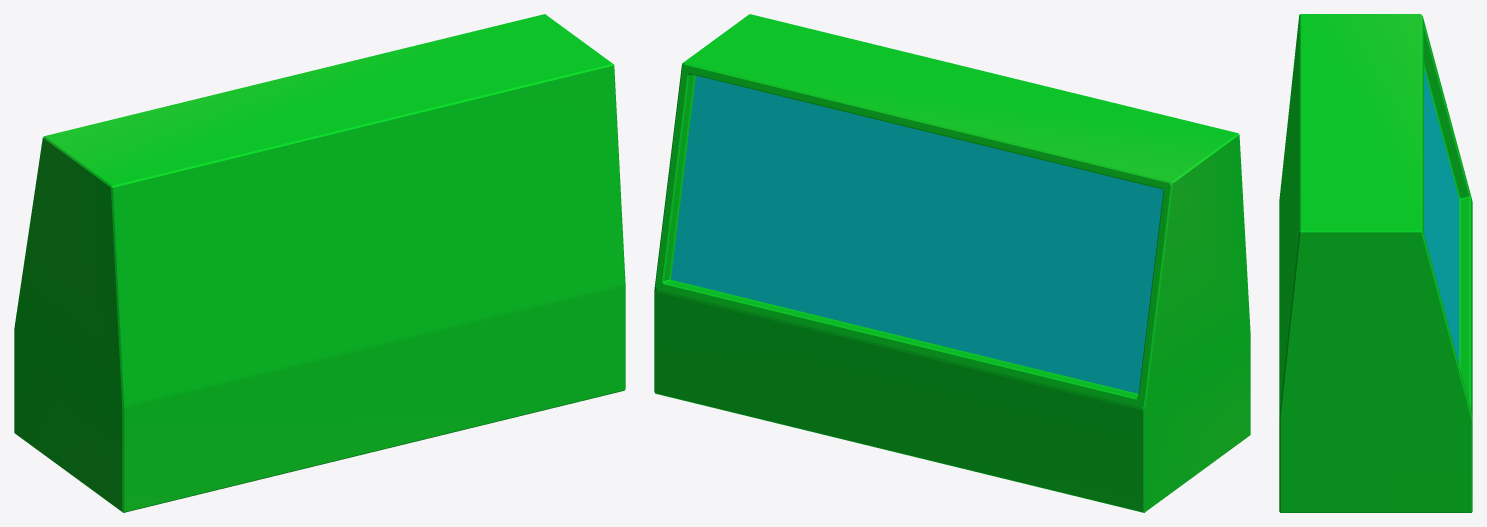
File: dinamometro.fbx
3 views of the same model, side by side, from view 1: azimuth 30°, elevation 25°; view 2: azimuth 150°, elevation 25°; view 3: azimuth 270°, elevation 25° (orthographic). The views are drawn at different scales.
Parts seen in each view (by area): view 1: Dinamometro; view 2: Dinamometro; view 3: Dinamometro.
Boxes of the visible parts, bbox=[...] form: Dinamometro: bbox=[14, 14, 625, 512]; Dinamometro: bbox=[654, 14, 1250, 512]; Dinamometro: bbox=[1279, 14, 1472, 512].
Bounding box in the file's own units: 200 × 121 × 75.19.
